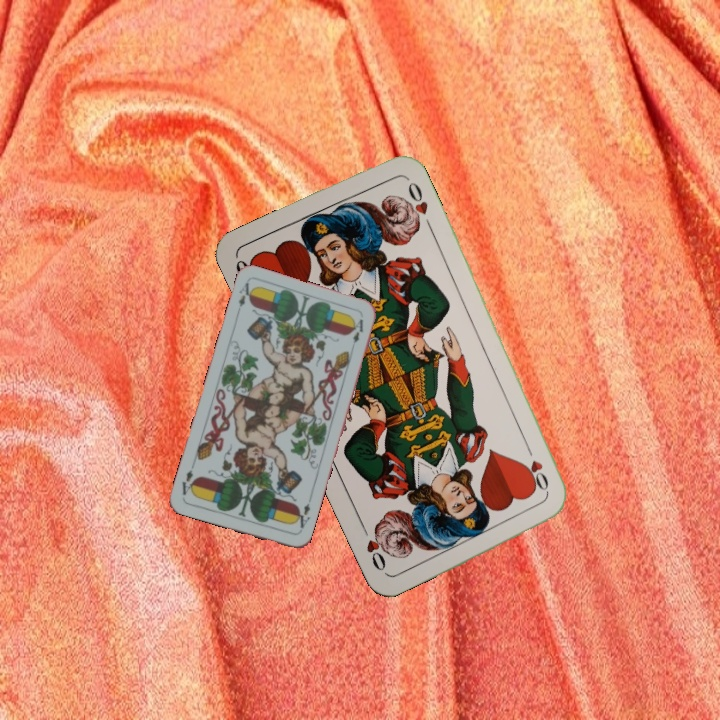EA: (291, 499, 313, 534), (235, 279, 256, 309)
HO: (521, 440, 552, 496)
